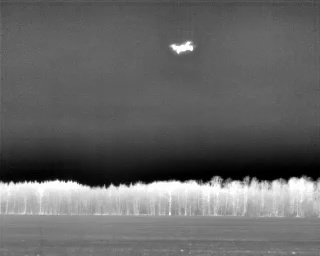DRONE: (166, 36, 200, 59)
